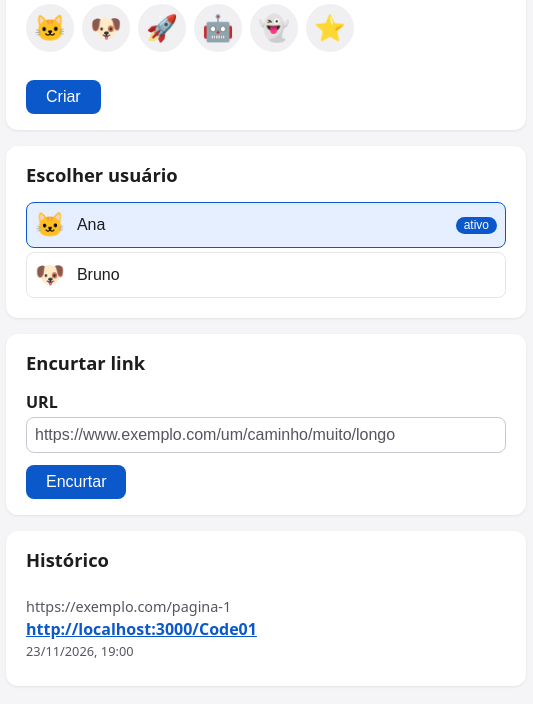
Scenario: tela de histórico › encurtar faz o link novo aparecer no topo sem recarregar
(page scrolled)
Expected: the text "https://exemplo.com/pagina-1" is shown, [26,596,231,616]
Type "https://novo.exemplo.com/x" into the field labelled "URL" at (266, 435), box [26,417,506,453]
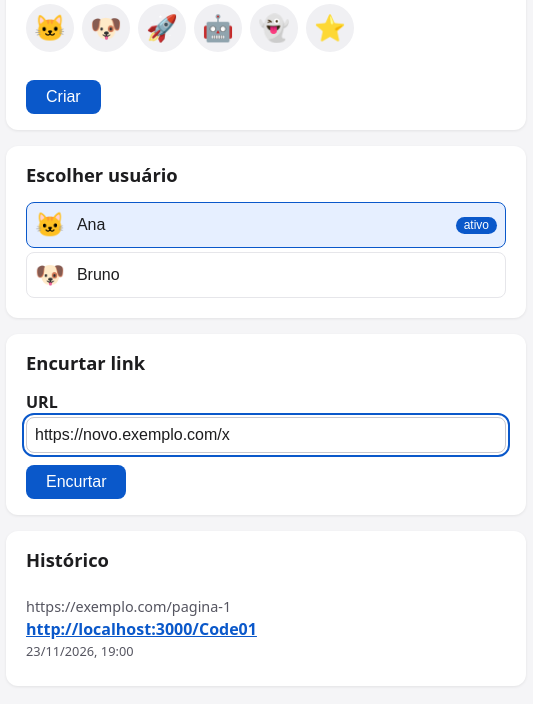
Click the button "Encurtar" at (76, 482), box [26,465,126,499]
(page scrolled)
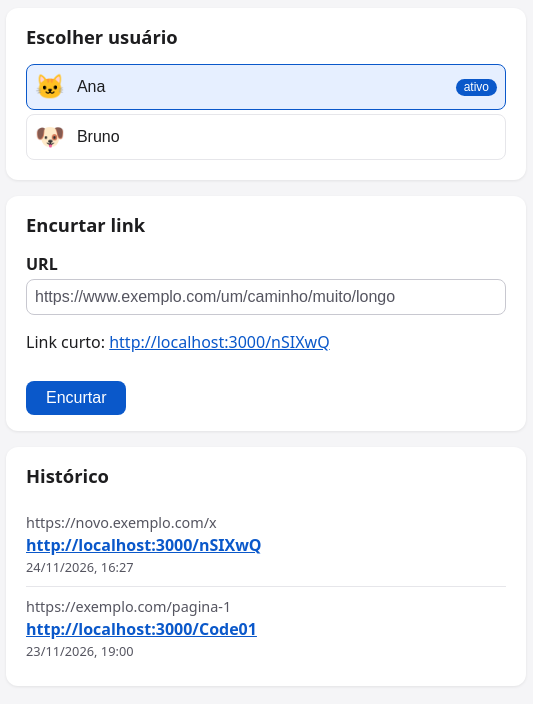
Expected: the text "https://exemplo.com/pagina-1" is shown, [26,596,231,616]
Expected: the text "https://novo.exemplo.com/x" is shown, [26,512,217,532]
